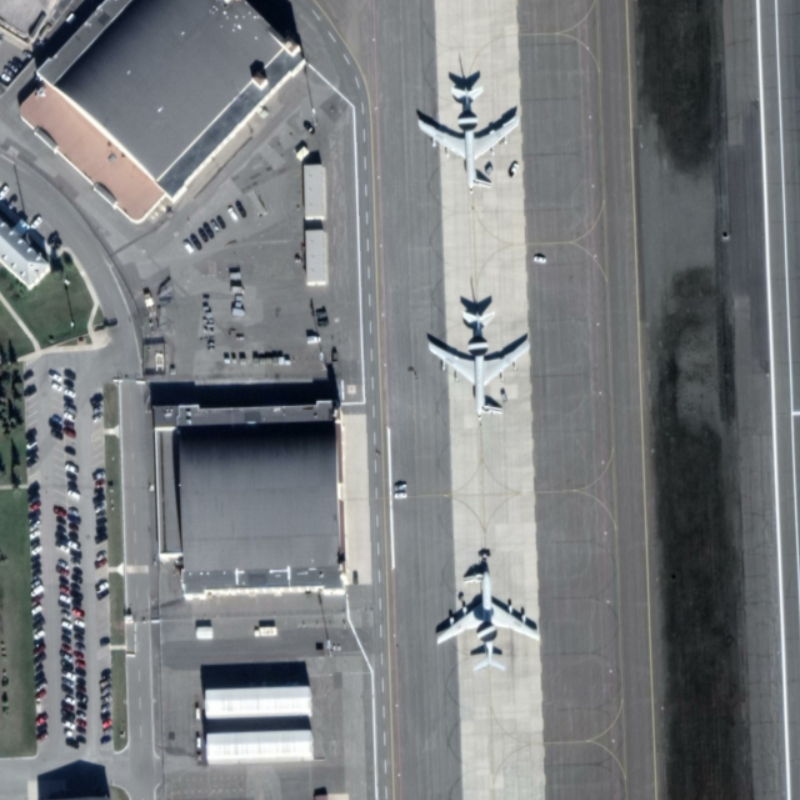A7: (428, 544, 548, 672), (418, 296, 539, 421), (409, 69, 527, 195)
